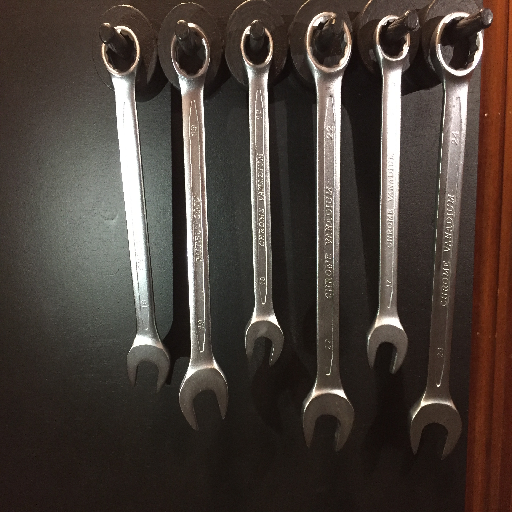bottom: (299, 383, 355, 455), (407, 391, 463, 462), (176, 362, 230, 431), (126, 337, 171, 395), (364, 315, 408, 374), (242, 313, 284, 367)
top: (428, 9, 486, 78), (303, 11, 354, 76), (168, 21, 212, 85), (99, 23, 143, 79), (372, 13, 412, 65), (238, 21, 275, 71)
